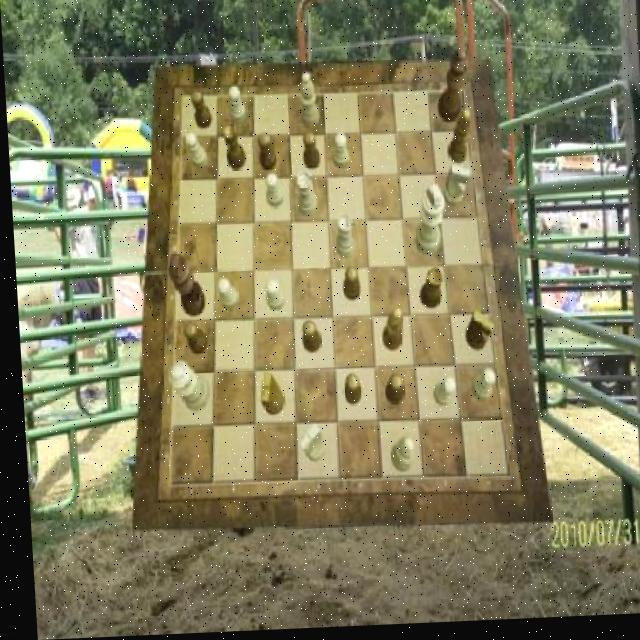bishop: (445, 113, 472, 168), (376, 311, 401, 355)
black-bishop: (164, 252, 203, 318)
black-king: (460, 314, 491, 355), (253, 374, 279, 417)
black-knight: (191, 93, 212, 132), (180, 324, 204, 358), (257, 135, 276, 172), (297, 323, 318, 356), (301, 134, 319, 172), (339, 270, 358, 305), (380, 377, 400, 409), (338, 376, 357, 409)
black-pawn: (434, 53, 471, 128)
black-queen: (220, 124, 245, 172), (415, 271, 441, 312)
black-rook: (296, 74, 318, 130), (384, 439, 410, 474)
white-bishop: (408, 188, 444, 260)
white-king: (440, 169, 471, 211), (294, 427, 320, 465)
white-knight: (183, 132, 206, 170), (466, 373, 491, 407), (213, 280, 236, 312), (227, 87, 246, 125), (428, 382, 452, 410), (263, 175, 281, 210), (330, 136, 348, 171), (261, 281, 280, 313)
white-pawn: (163, 361, 206, 413)
white-queen: (332, 216, 353, 262), (295, 174, 316, 220)
